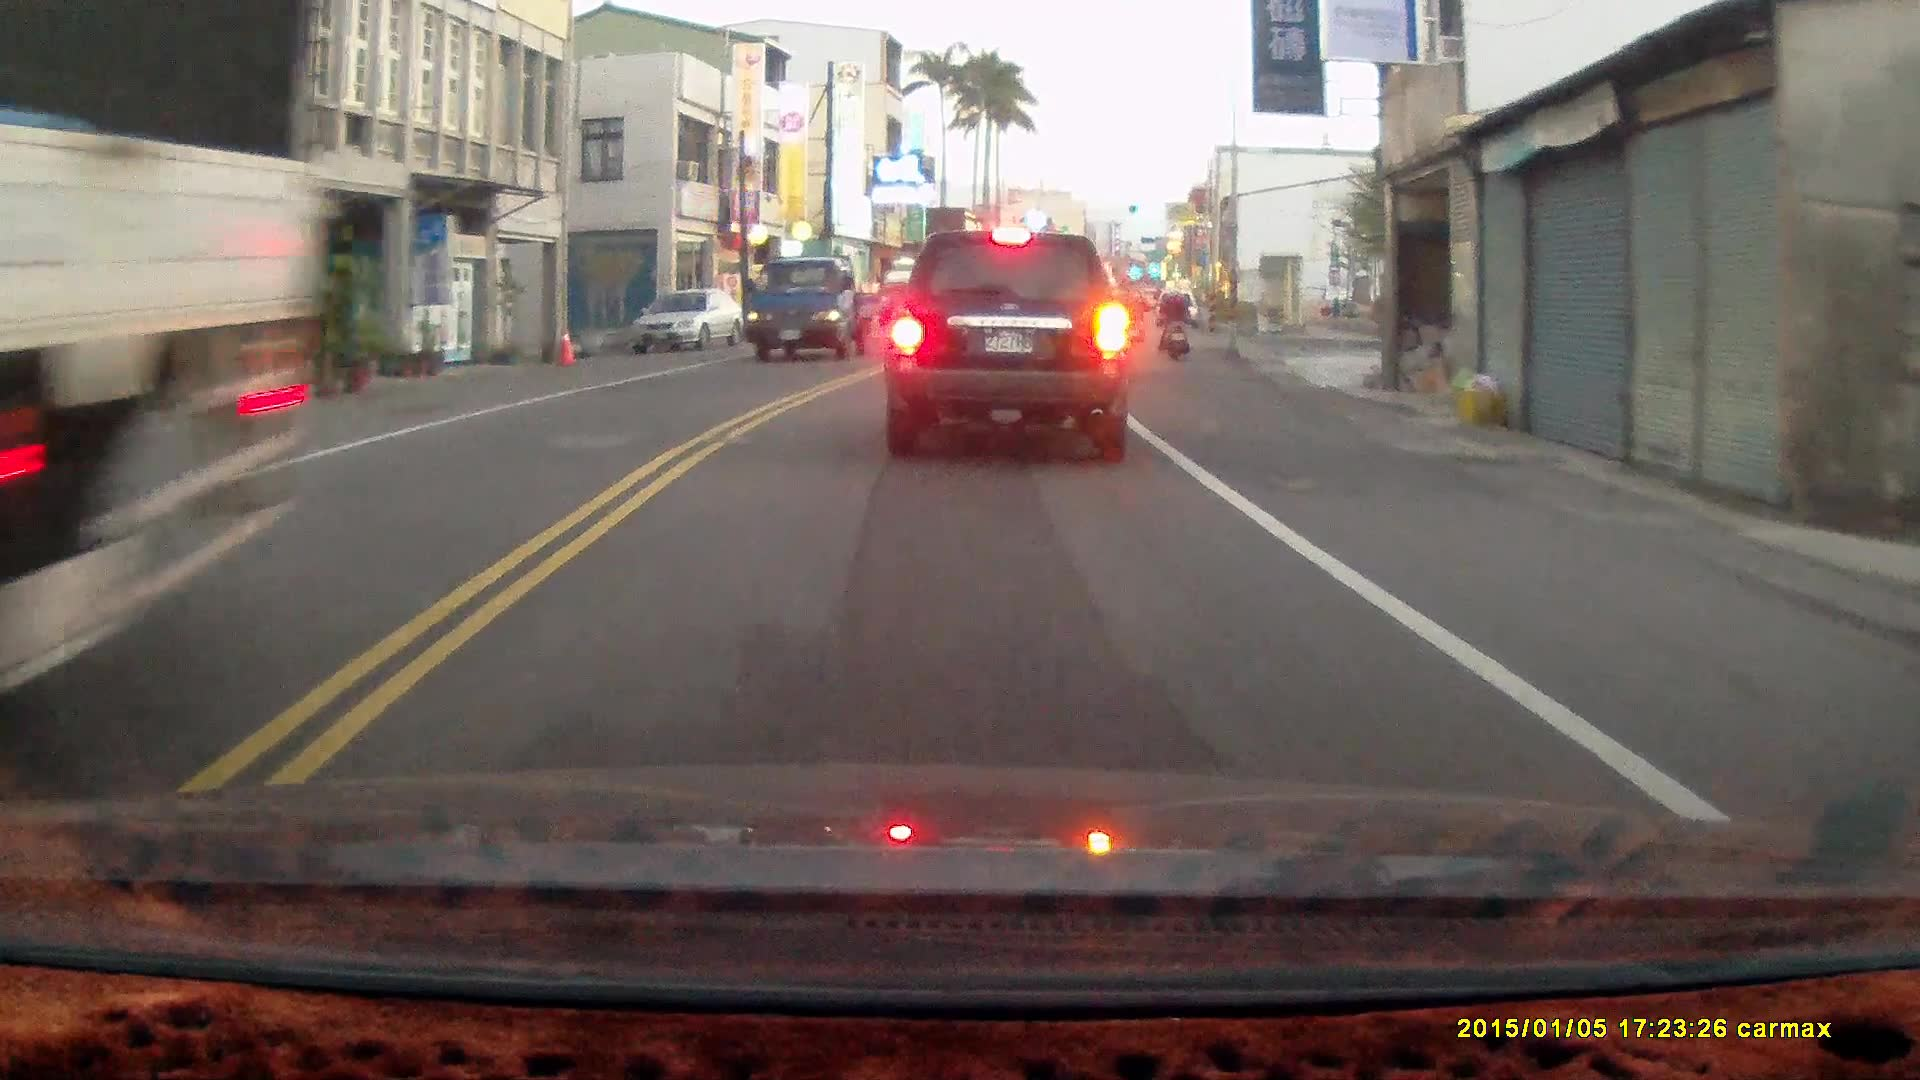rider: (1156, 280, 1187, 361), (1119, 284, 1146, 350)
vehicle: (1, 9, 382, 798), (882, 226, 1132, 461), (742, 256, 874, 365), (627, 287, 748, 353)
